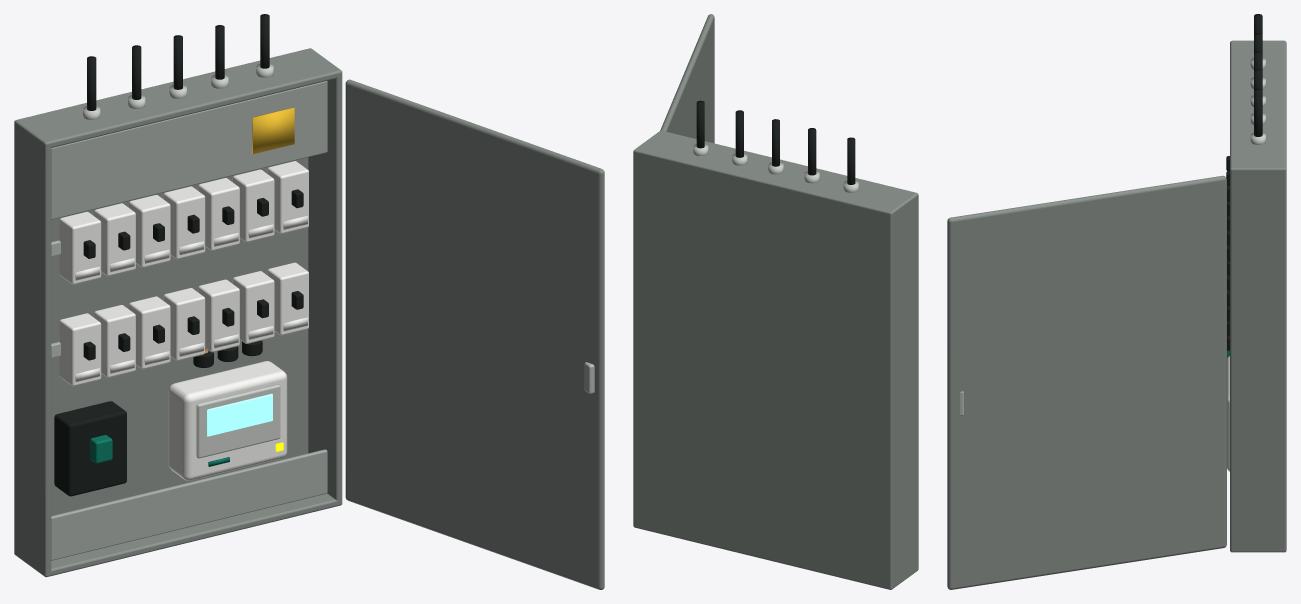
The model's file is tablero.glb.
3 renders of one model, left to right at view 1: azimuth 30°, elevation 25°; view 2: azimuth 150°, elevation 25°; view 3: azimuth 270°, elevation 25°, orthographic. The views are drawn at different scales.
Parts seen in each view (by area): view 1: puerta, gab_fondo, contrafrente_sup, gab_izq, contrafrente_inf, gab_der, gab_techo, medidor_cuerpo, totalizador, gab_piso, medidor_frente, breaker_1_0 (+15 smaller); view 2: gab_fondo, gab_izq, gab_techo, puerta, gab_der, gab_piso, cable_0, cable_4, cable_1, cable_3, cable_2; view 3: puerta, gab_der, gab_techo.
Part boxes in pixels (box(x1,y1,x2,y2)): puerta: box(345, 79, 604, 589); gab_fondo: box(51, 157, 308, 515); contrafrente_sup: box(51, 81, 327, 219); gab_izq: box(14, 119, 51, 577); contrafrente_inf: box(51, 449, 327, 560); gab_der: box(308, 48, 342, 505); gab_techo: box(14, 49, 341, 147); medidor_cuerpo: box(168, 361, 287, 480); totalizador: box(54, 401, 126, 496); gab_piso: box(14, 493, 341, 576); medidor_frente: box(196, 384, 280, 458); breaker_1_0: box(59, 313, 101, 386); gab_fondo: box(635, 154, 888, 586); gab_izq: box(887, 192, 918, 589); gab_techo: box(633, 131, 918, 216); puerta: box(660, 14, 714, 143); gab_der: box(633, 130, 663, 527); gab_piso: box(633, 523, 918, 589); cable_0: box(847, 137, 855, 184); cable_4: box(696, 100, 704, 148); cable_1: box(808, 128, 816, 175); cable_3: box(735, 110, 743, 157); cable_2: box(772, 119, 779, 166); puerta: box(947, 175, 1226, 589); gab_der: box(1230, 166, 1286, 551); gab_techo: box(1230, 42, 1286, 172).
Bounding box in the file's own units: 1.16 × 1.36 × 0.9592.
